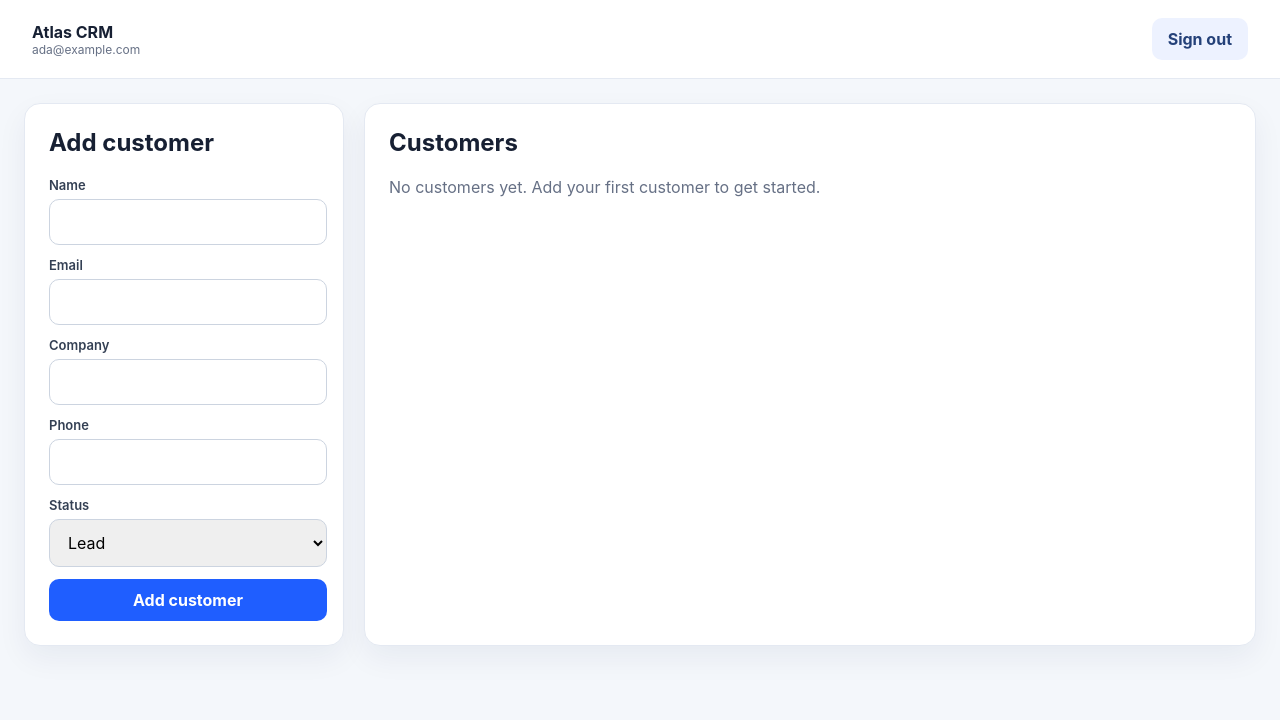
Test case: Dashboard › creates a customer and surfaces success feedback
Check: the text "No customers yet. Add your first customer to get started." is shown, box [389, 177, 820, 197]
Type "Globex" into the field labelled "Name". click: (188, 222)
box: [49, 199, 327, 245]
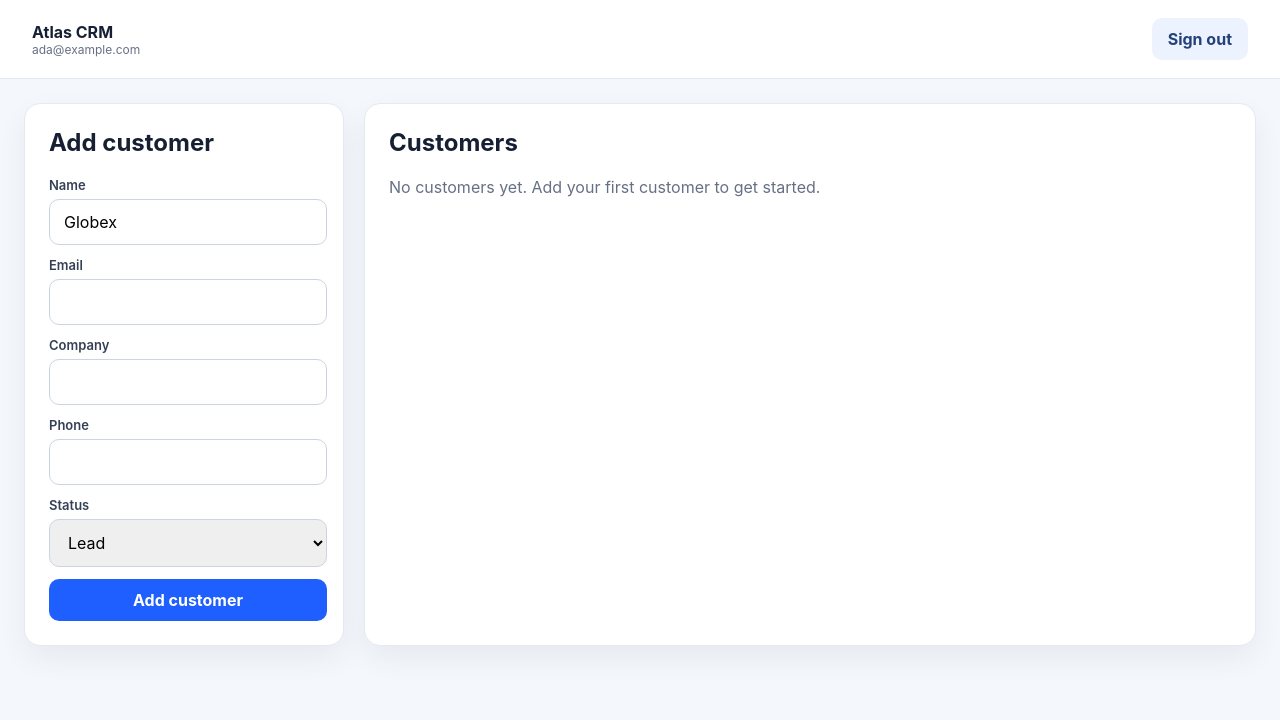
Type "ops@globex.com" into the field labelled "Email". click: (188, 302)
box: [49, 279, 327, 325]
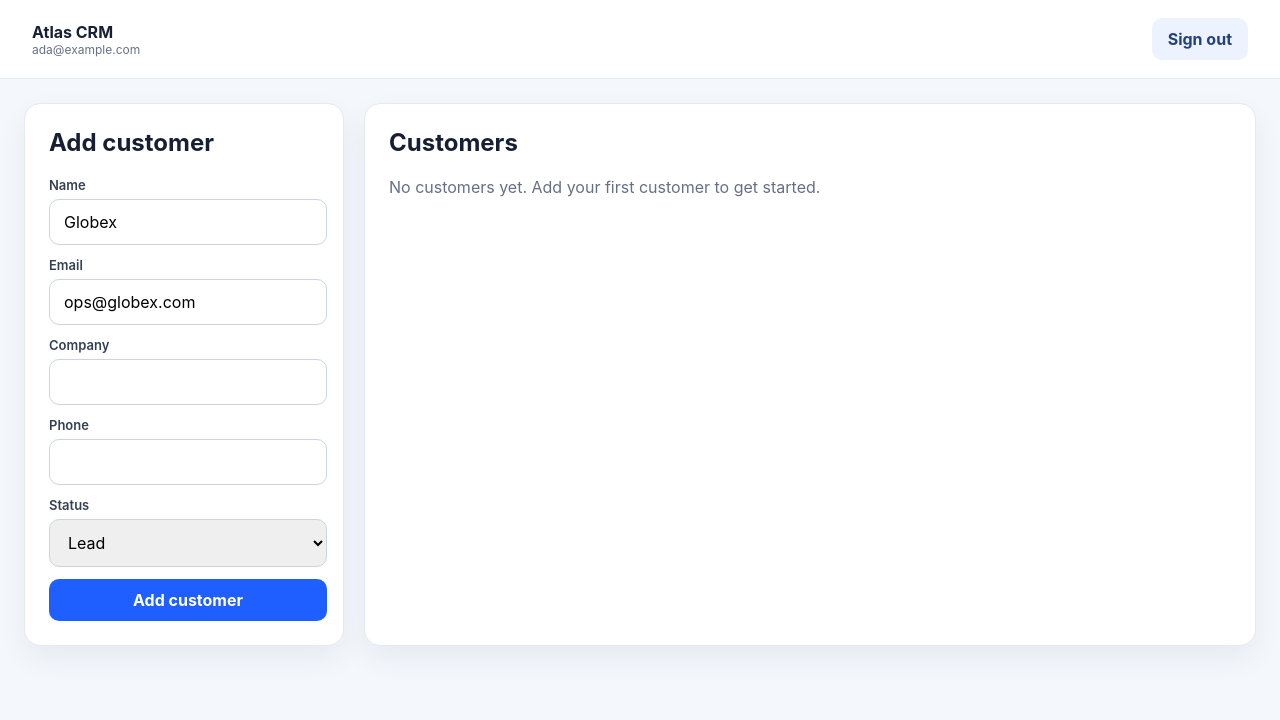
Type "Globex" into the field labelled "Company". click: (188, 382)
box: [49, 359, 327, 405]
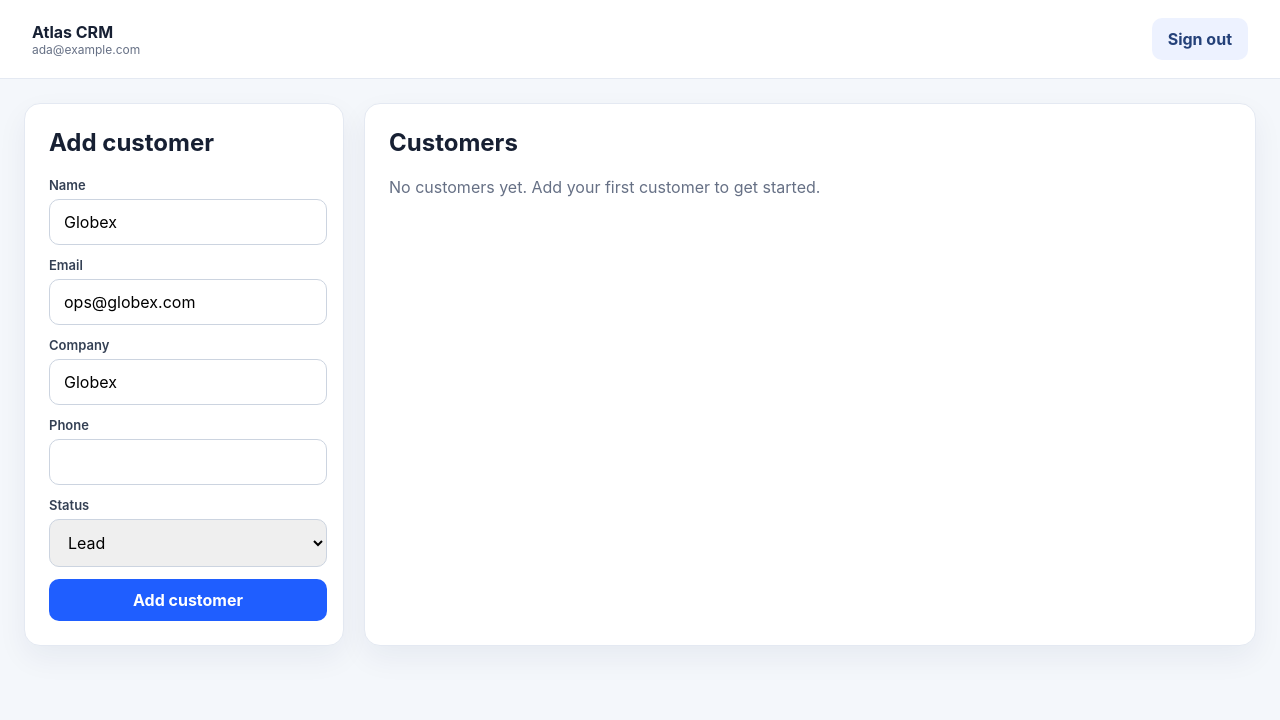
Click the button "Add customer". click: (188, 600)
box: [49, 579, 327, 621]
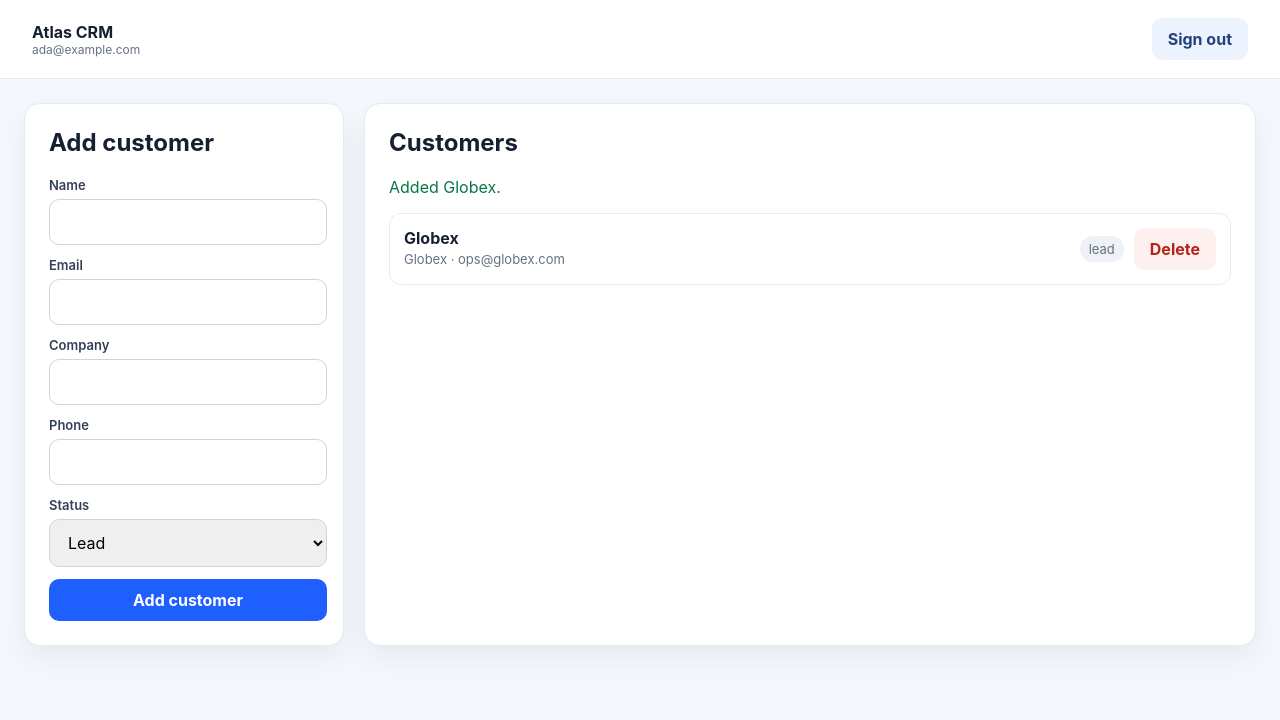
Check: the text "Added Globex." is shown, box [389, 177, 501, 197]
Check: the text "Globex" is shown, box [404, 228, 459, 248]
Check: the text "No customers yet. Add your first customer to get started." is gone
